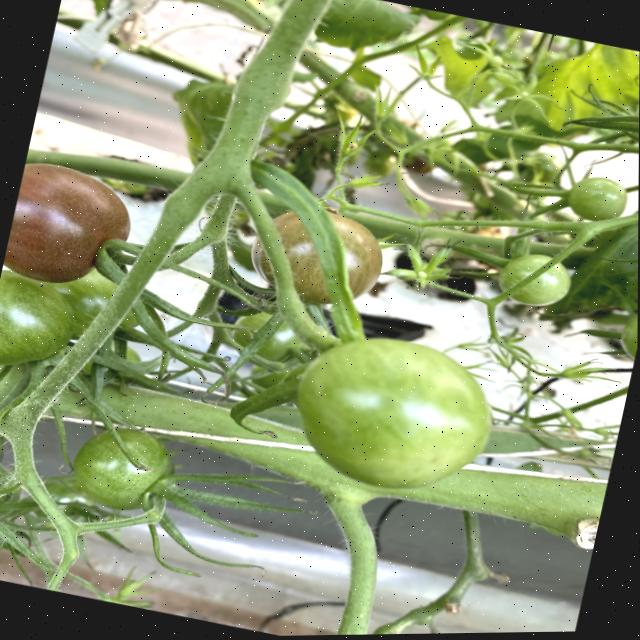ripe0: (285, 321, 506, 505), (64, 419, 181, 521), (0, 272, 81, 380), (498, 251, 576, 316), (565, 171, 632, 226)
ripe1: (1, 154, 143, 296)
